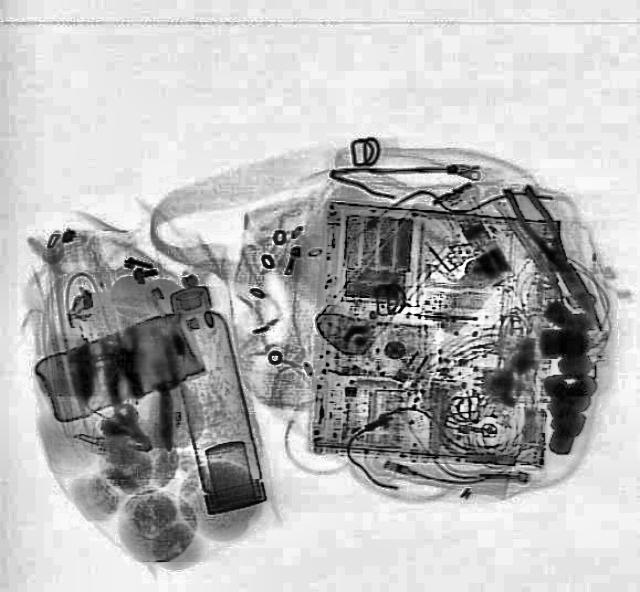Pliers: (498, 176, 614, 336)
